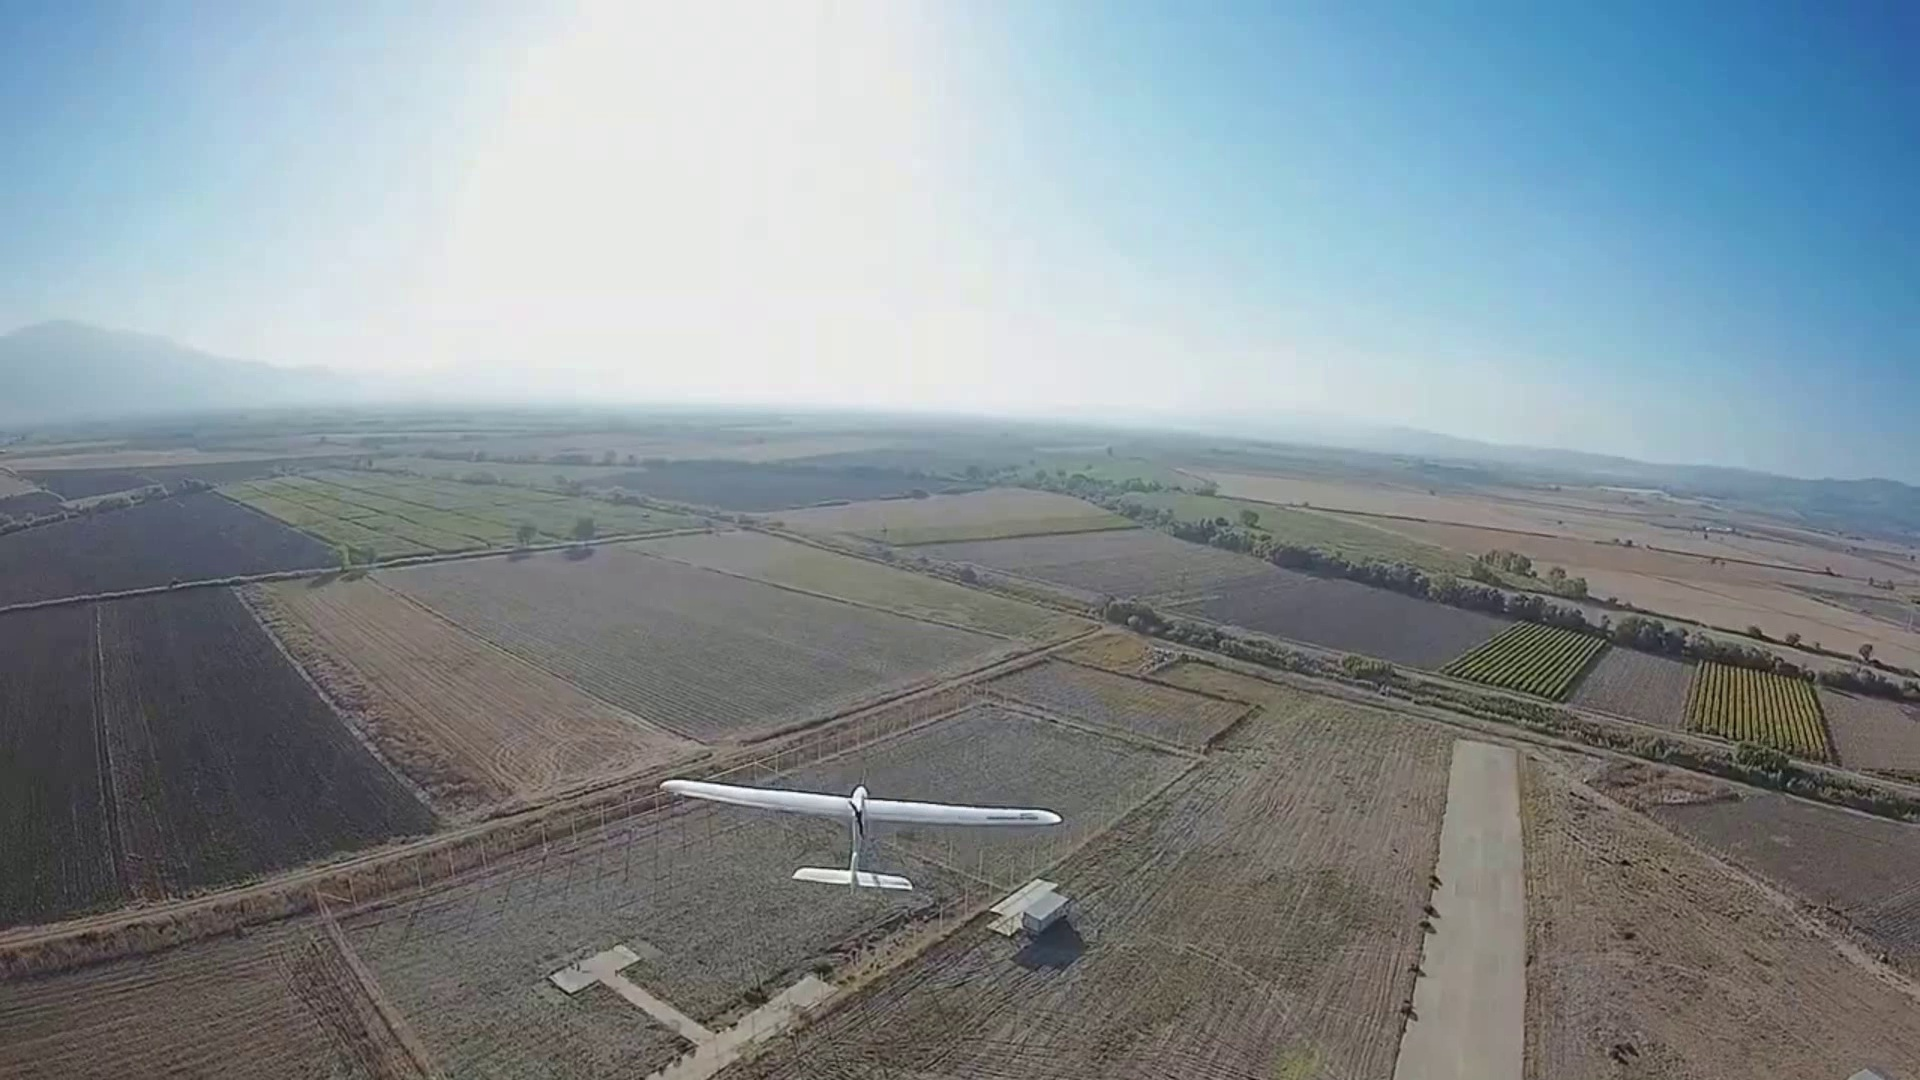airplane: (661, 771, 1077, 924)
